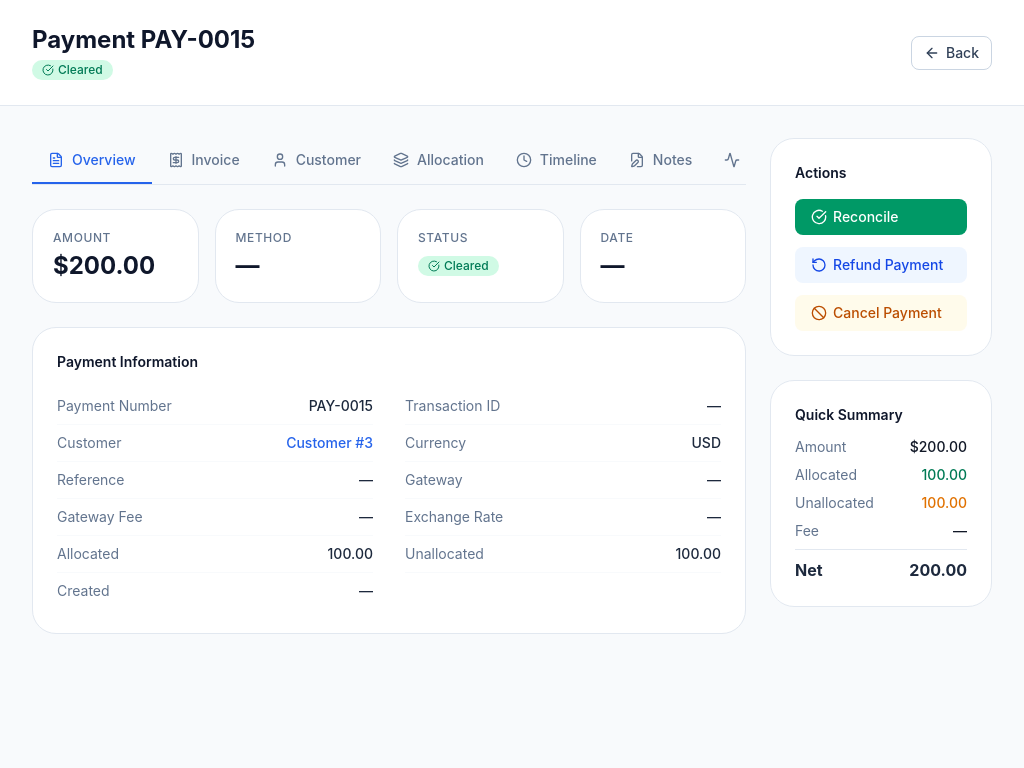
Test: PaymentDetailPage dialogs › Refund Payment creates + submits a partial refund, closes, and navigates to the refund
expect the heading "Payment PAY-0015" is shown: met, box left=32, top=24, right=255, bottom=56
Click the button "Refund Payment" at (881, 265), box left=795, top=247, right=967, bottom=283
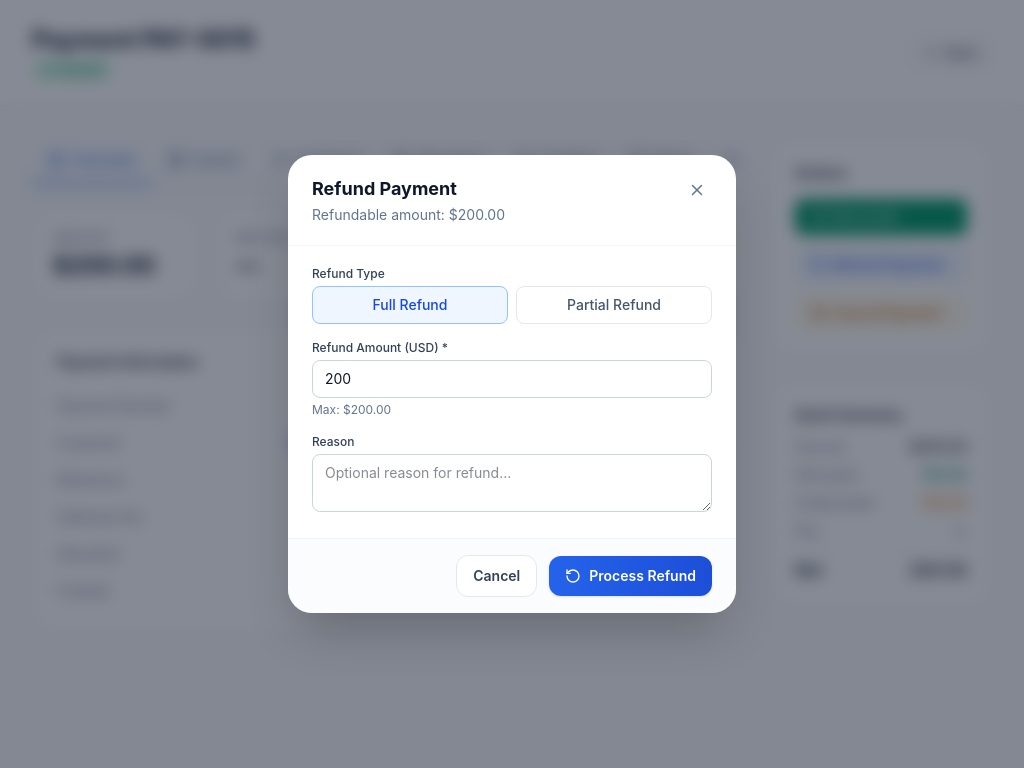
Click the button "Partial Refund" at (614, 305), box left=516, top=286, right=712, bottom=324
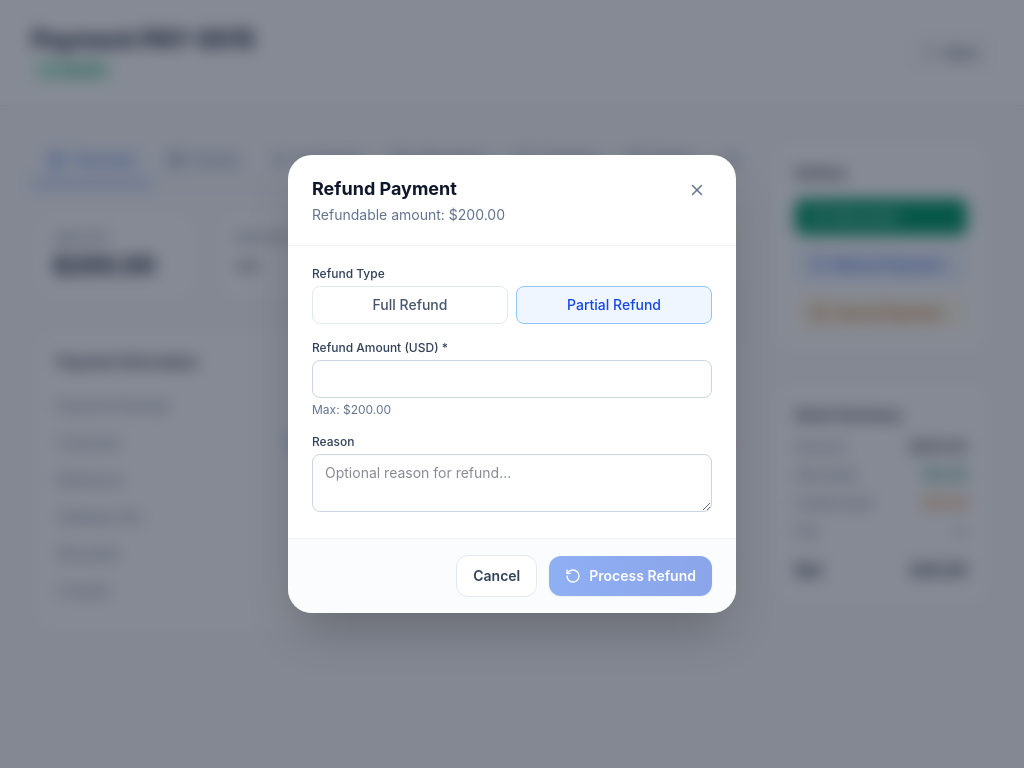
expect the button "Process Refund" is disabled: met, box left=549, top=556, right=712, bottom=596
Type "50" into the number field at (512, 379), box left=312, top=360, right=712, bottom=398
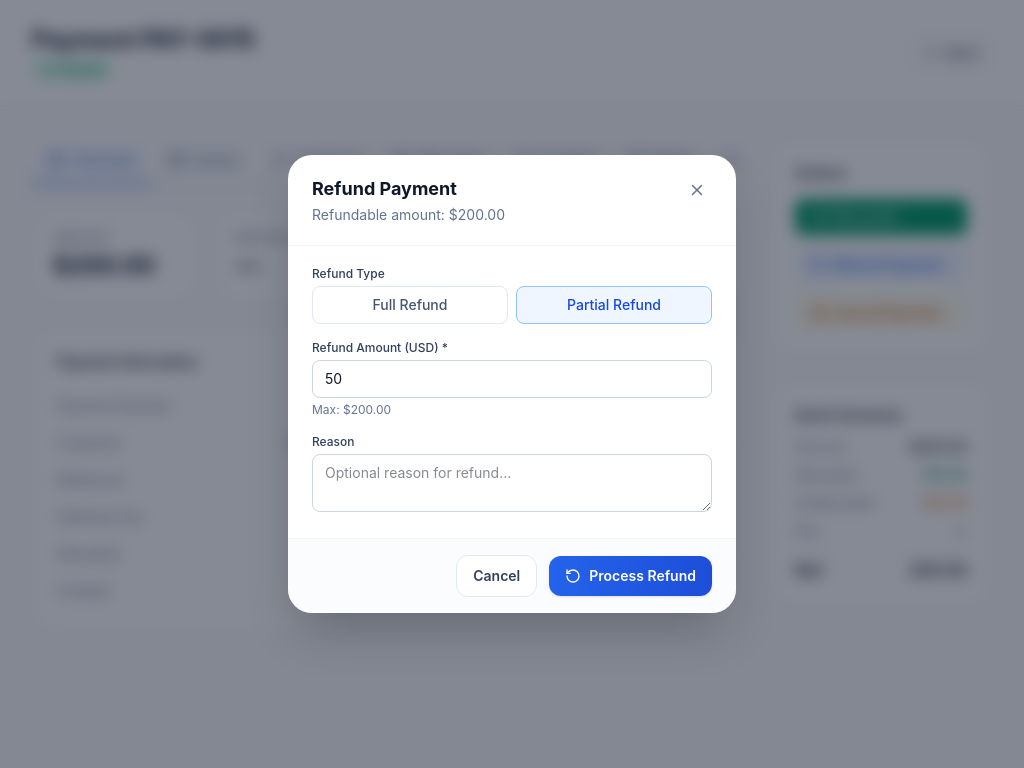
Type "Overcharge" into the text box with placeholder "Optional reason for refund..." at (512, 483), box left=312, top=454, right=712, bottom=512
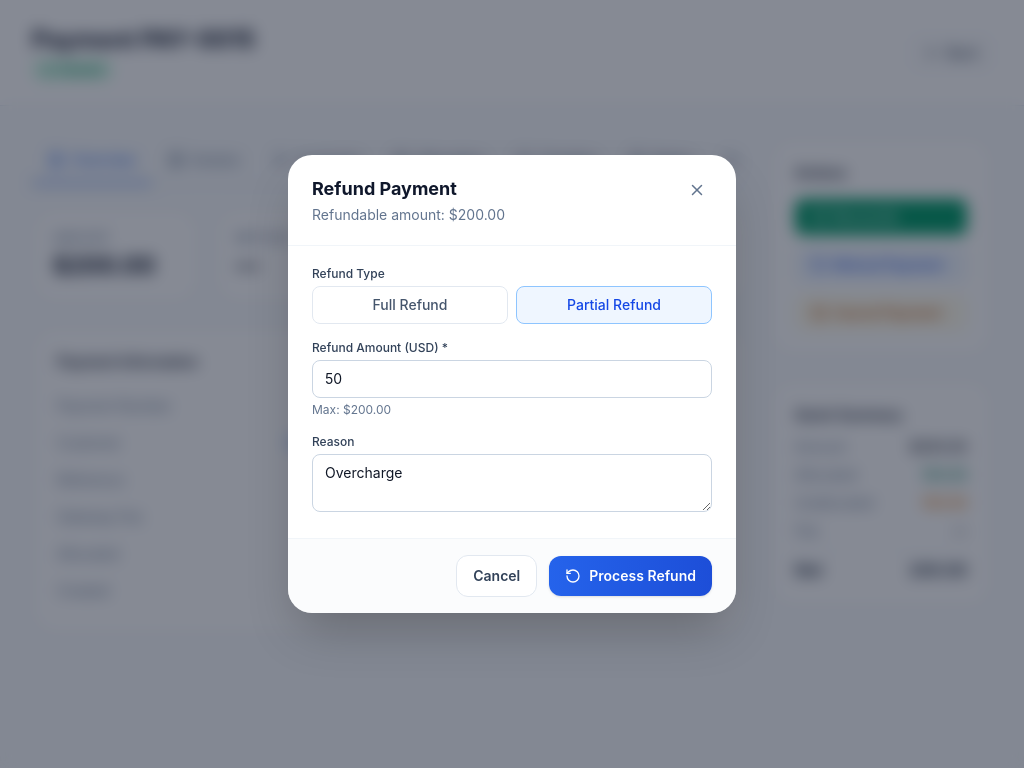
Click the button "Process Refund" at (631, 576), box left=549, top=556, right=712, bottom=596
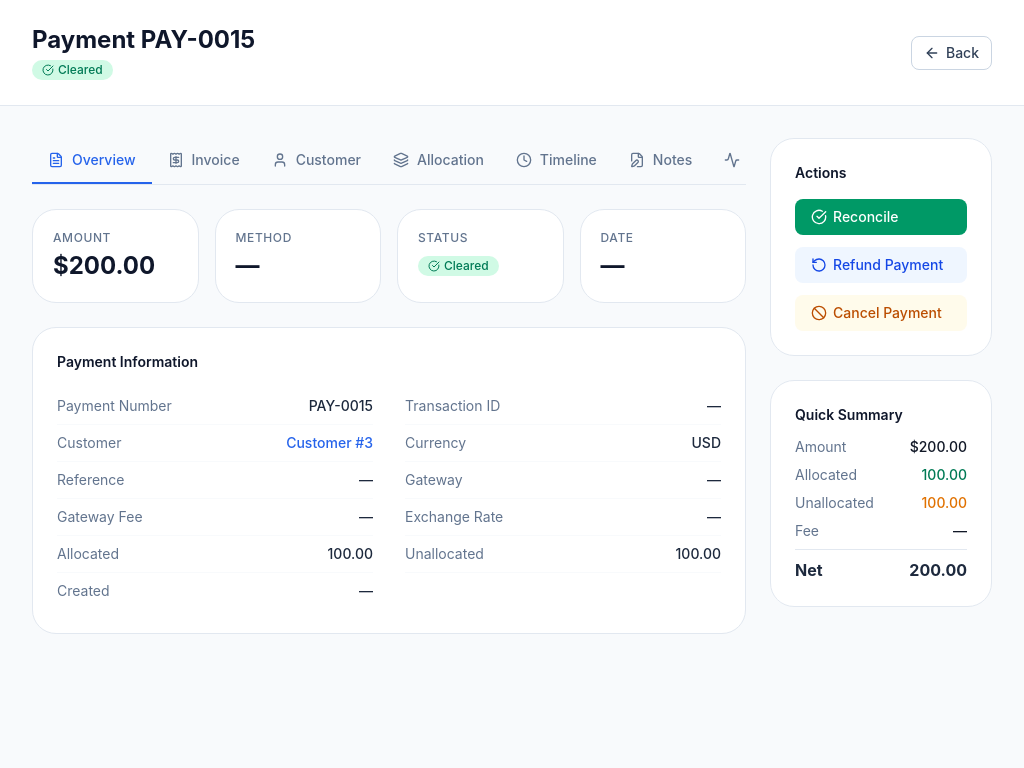
expect the dialog is gone: met
